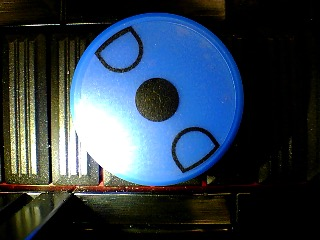BOHOMIPO2: (69, 13, 245, 187)
